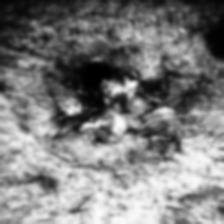Potentially Malignant Skin Tumors: (52, 56, 132, 143), (136, 82, 174, 132), (214, 27, 224, 49)
